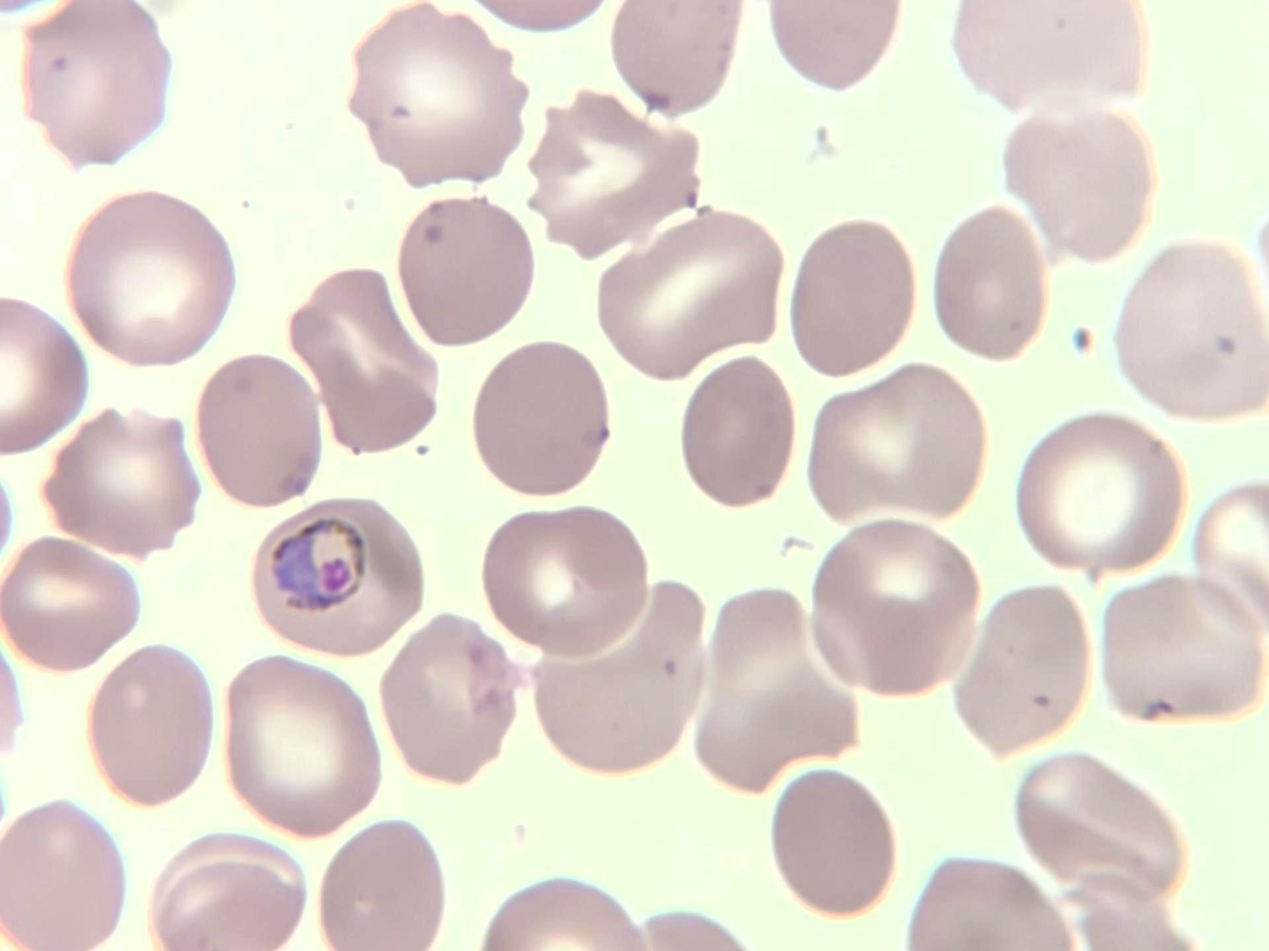Infected: (260, 496, 423, 656)
Uninfected: (529, 582, 693, 783), (696, 596, 859, 793), (353, 5, 518, 193), (599, 212, 777, 378), (1016, 745, 1197, 908), (813, 521, 975, 697), (529, 87, 698, 255), (813, 364, 986, 528), (225, 653, 380, 831), (293, 263, 438, 453), (68, 197, 225, 367), (1020, 410, 1181, 571), (18, 0, 169, 170), (485, 503, 643, 659), (1124, 239, 1269, 405), (1106, 573, 1260, 725), (42, 406, 200, 550), (388, 611, 517, 787), (1013, 102, 1150, 251), (963, 582, 1081, 753), (482, 338, 608, 493), (0, 543, 144, 678), (0, 803, 131, 951), (403, 192, 532, 342), (90, 648, 216, 800), (683, 351, 796, 517), (778, 763, 894, 921), (793, 221, 912, 374), (203, 360, 330, 500), (150, 829, 295, 951), (936, 208, 1044, 362), (317, 818, 439, 951), (615, 0, 730, 126)
